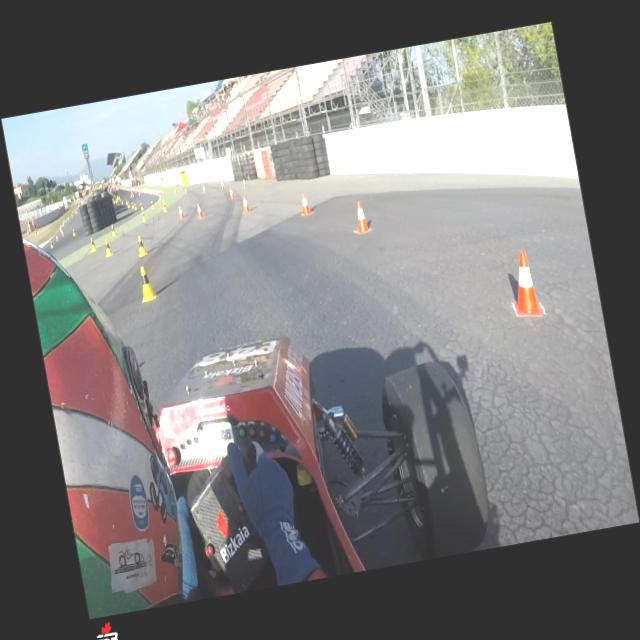orange_cone: (503, 248, 545, 320), (350, 200, 372, 234), (297, 190, 312, 216), (240, 194, 251, 213), (195, 202, 203, 218), (177, 204, 184, 219), (228, 186, 235, 199), (241, 178, 247, 188), (201, 184, 207, 194), (183, 187, 188, 195), (220, 181, 224, 190), (55, 234, 59, 242), (173, 188, 177, 195)
yellow_cone: (136, 264, 158, 302), (134, 234, 148, 257), (102, 237, 114, 256), (88, 236, 97, 252), (109, 223, 117, 236), (140, 210, 147, 222), (162, 202, 168, 212), (150, 199, 156, 209), (48, 239, 54, 248), (132, 202, 138, 210), (140, 202, 144, 210), (72, 228, 76, 236), (131, 202, 135, 208)
